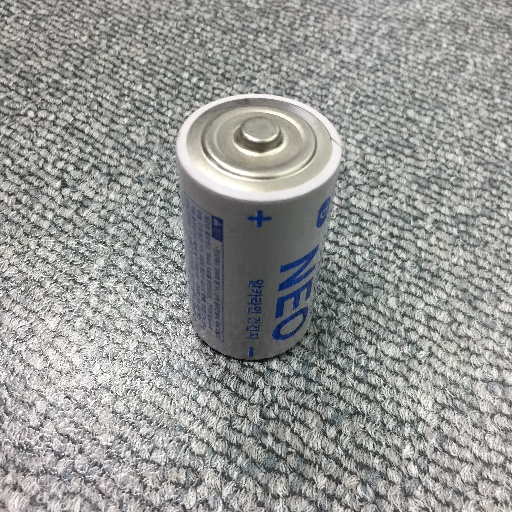Battery_0: (168, 81, 352, 373)
